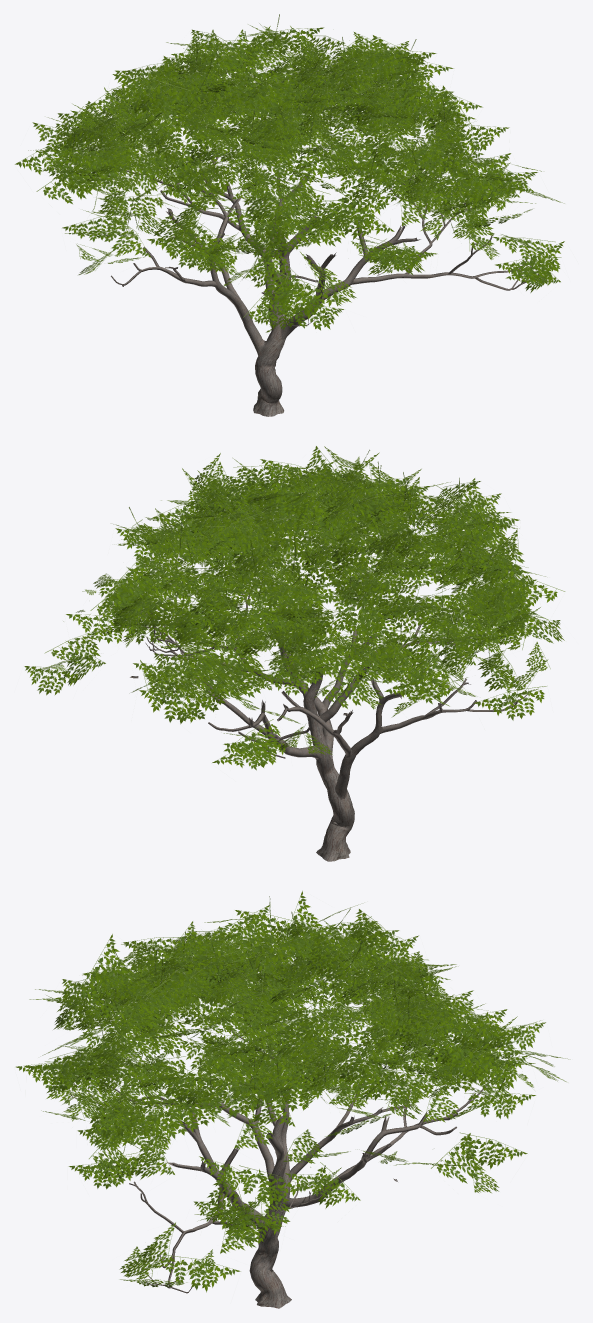
The model's file is chinaberry_b_far.glb.
3 renders of one model, top to bottom at view 1: azimuth 30°, elevation 25°; view 2: azimuth 150°, elevation 25°; view 3: azimuth 270°, elevation 25°, orthographic. The views are drawn at different scales.
Visible parts, largest first — view 1: Melia_azedarach_HD_Melia bark 01_0; view 2: Melia_azedarach_HD_Melia bark 01_0; view 3: Melia_azedarach_HD_Melia bark 01_0.
Part boxes in pixels (bbox=[...]): Melia_azedarach_HD_Melia bark 01_0: bbox=[15, 14, 564, 416]; Melia_azedarach_HD_Melia bark 01_0: bbox=[24, 446, 565, 861]; Melia_azedarach_HD_Melia bark 01_0: bbox=[16, 891, 568, 1308].
Bounding box in the file's own units: 8.86 × 6.45 × 8.9.
Materials: 2 (2 with a texture image).
